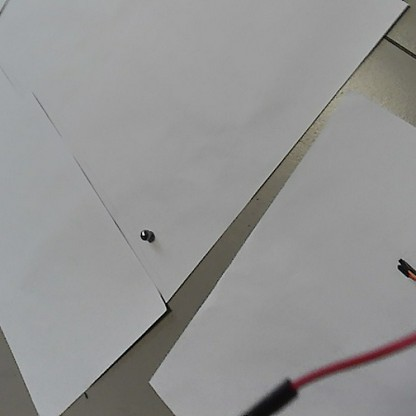ironball: (138, 225, 151, 241)
